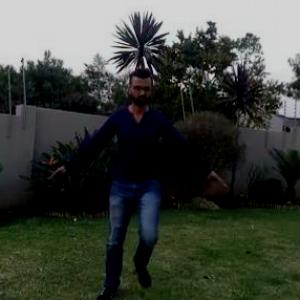land: (59, 32, 208, 281)
